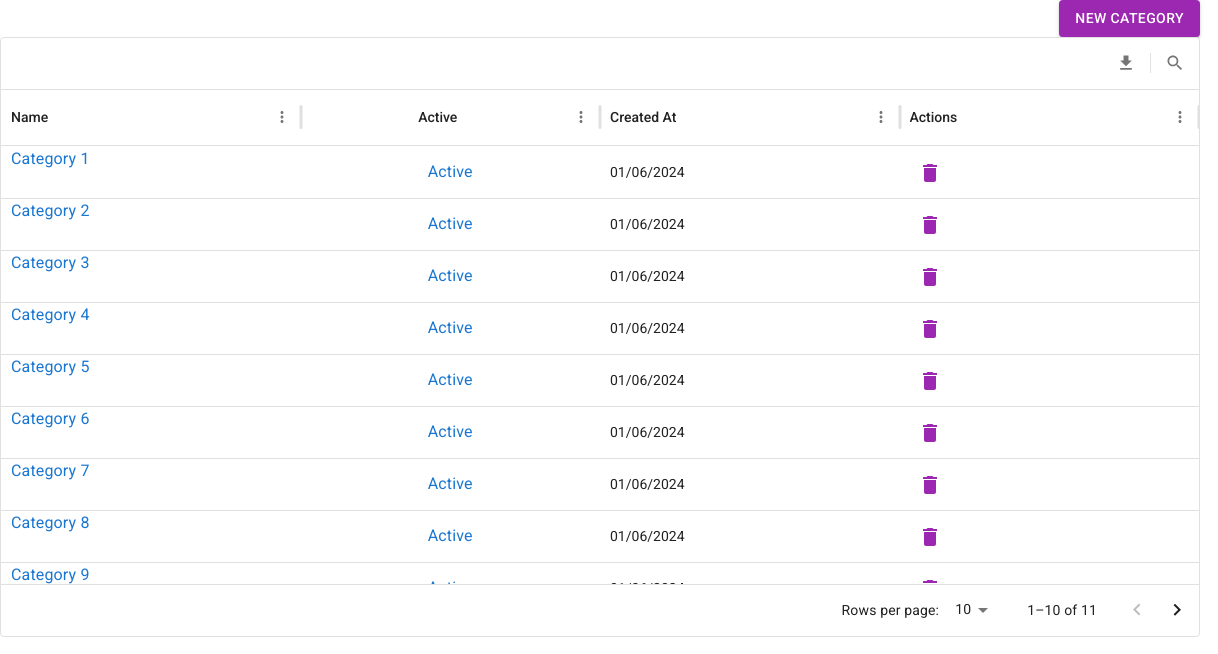
ListCategory › should handle filter change
Expected: the text "Category 1" is shown, [11,148,90,168]
Replace the text in the search field with placeholder "Search" with "Category 11" at (1175, 63), box [1157,43,1193,83]
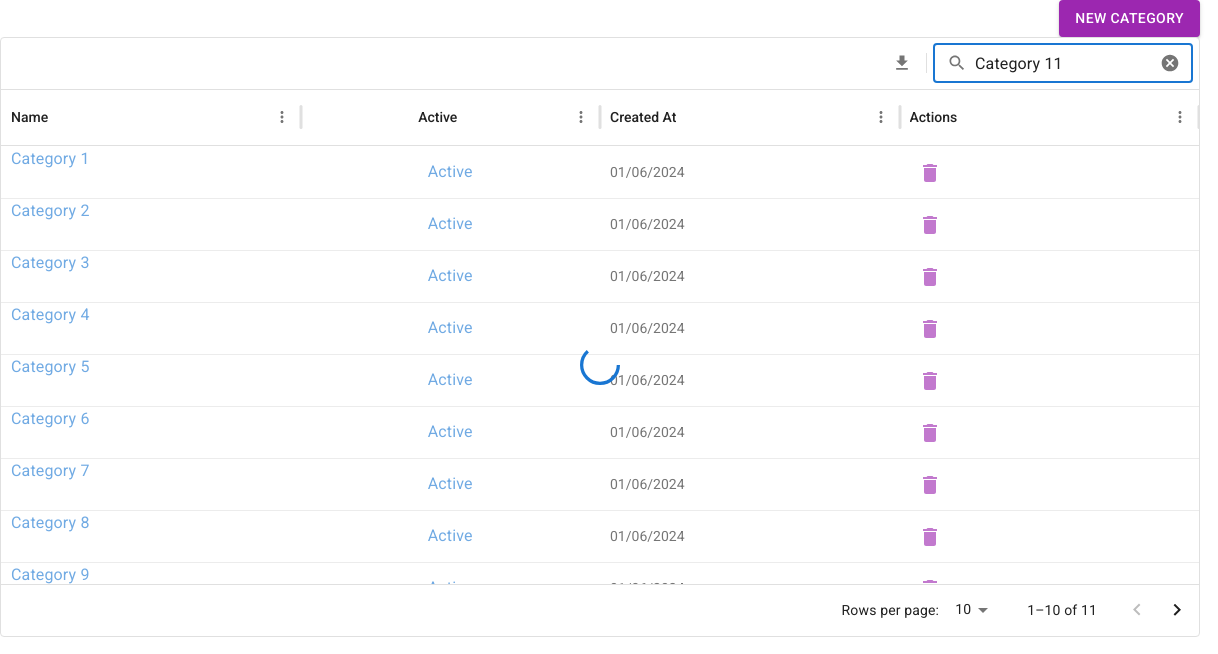
Expected: the progress indicator is shown, [580,344,620,384]
